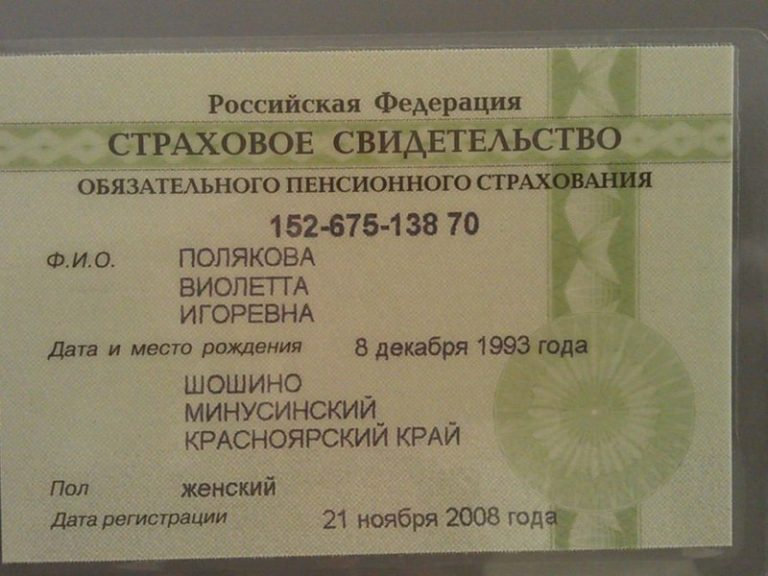text: (174, 367, 466, 449), (317, 503, 563, 533), (267, 209, 500, 239), (352, 335, 592, 360), (169, 296, 317, 328), (174, 245, 321, 271), (173, 273, 316, 299), (171, 475, 287, 499)
